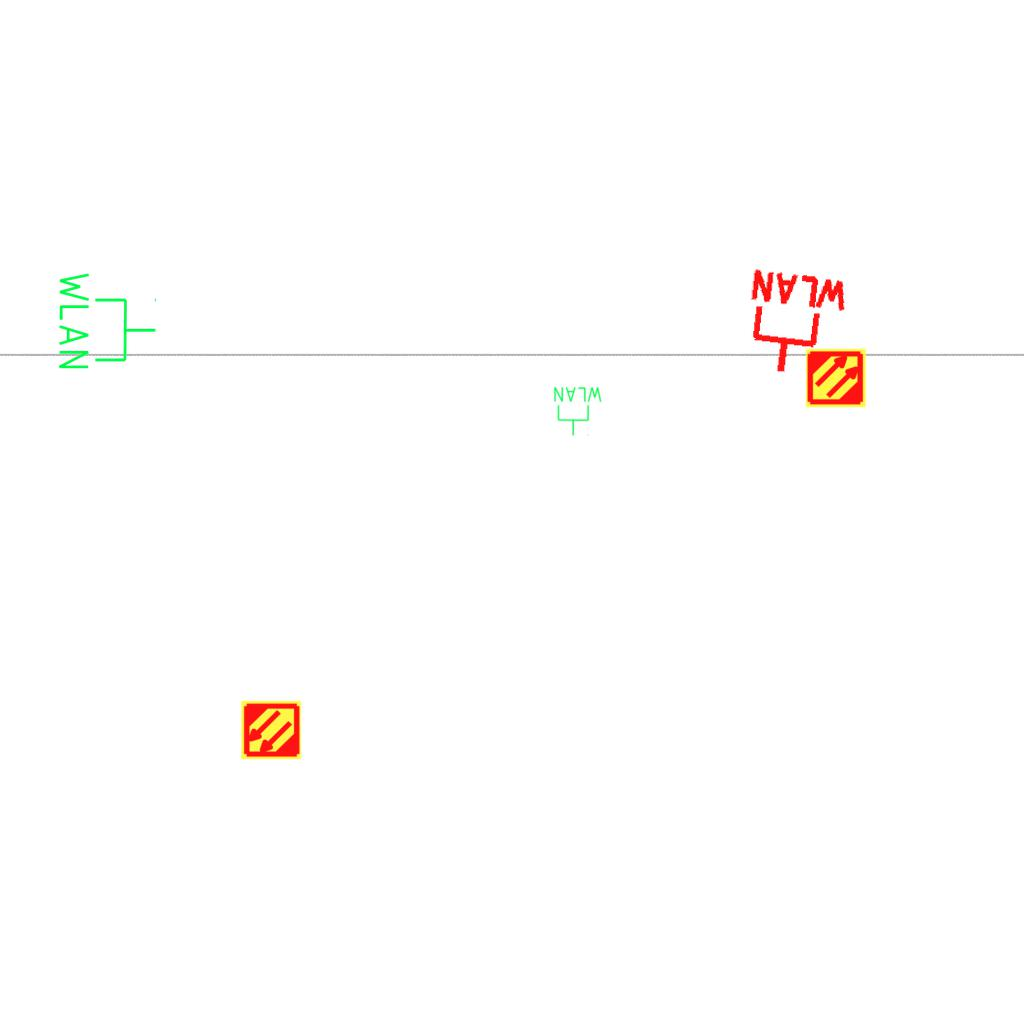ASR_Ansaugrauchmelder: (240, 699, 302, 761), (805, 347, 867, 409)
WLAN: (737, 266, 854, 384), (55, 268, 159, 373), (552, 385, 604, 437)
